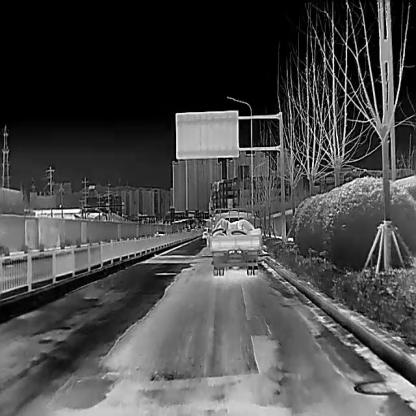car: (153, 229, 167, 237)
truck: (209, 207, 261, 276)
